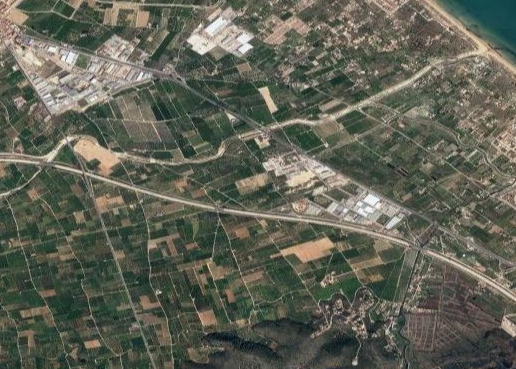bridge: (78, 163, 92, 179)
industrial: (14, 36, 133, 114), (191, 8, 249, 59), (314, 185, 393, 222)
motorway: (454, 261, 516, 301), (353, 176, 408, 209), (298, 146, 353, 179), (241, 116, 296, 149), (187, 86, 242, 119), (458, 237, 516, 265), (397, 239, 455, 264), (408, 208, 458, 237), (67, 165, 131, 186), (133, 186, 197, 207), (1, 149, 66, 169), (330, 223, 396, 242), (198, 200, 263, 215), (265, 213, 330, 228), (143, 66, 187, 88)
